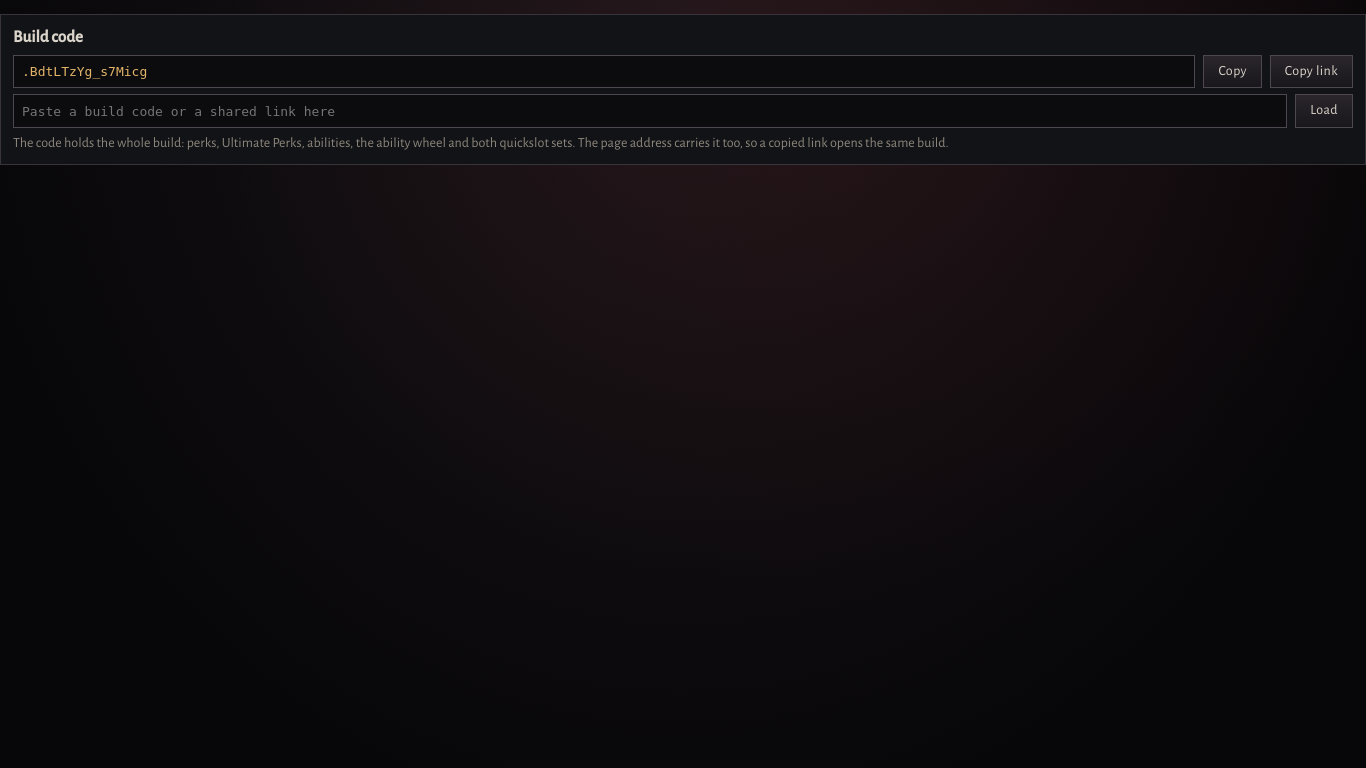
Test: SharePanel › asks for a copy by hand when the browser blocks the clipboard
This screenshot has width=1366, height=768.
Step 1. Click the button "Copy" → [1233, 72], box top-left (1204, 55), bottom-right (1262, 88)
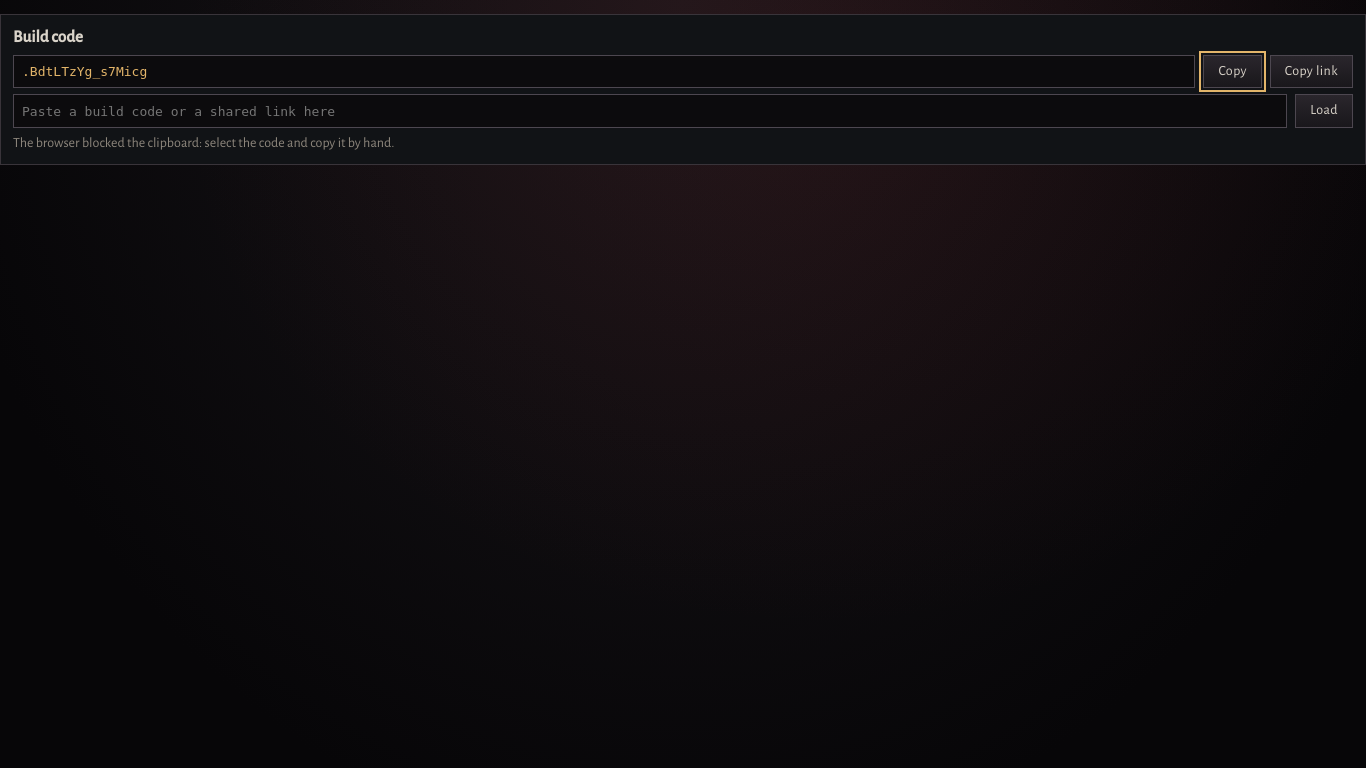
Expected: the message reads "The browser blocked the clipboard: select the code and copy it by hand.", top-left (13, 136), bottom-right (394, 150)
